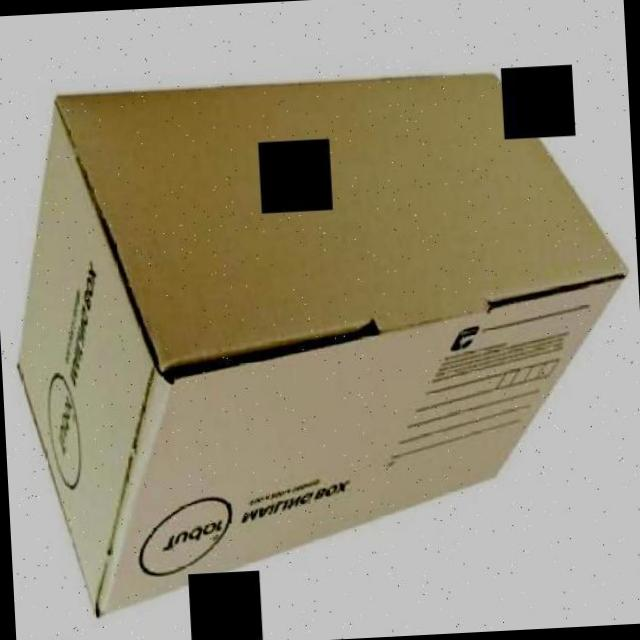box: (2, 51, 640, 622)
